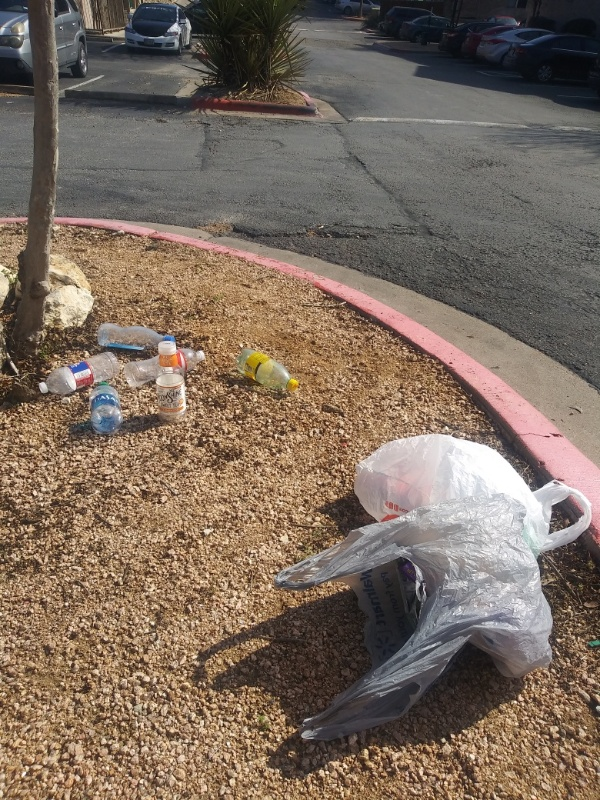bottle: (34, 349, 120, 402), (120, 344, 212, 392), (230, 345, 303, 402), (150, 339, 192, 422), (91, 320, 183, 353), (85, 380, 127, 439)
